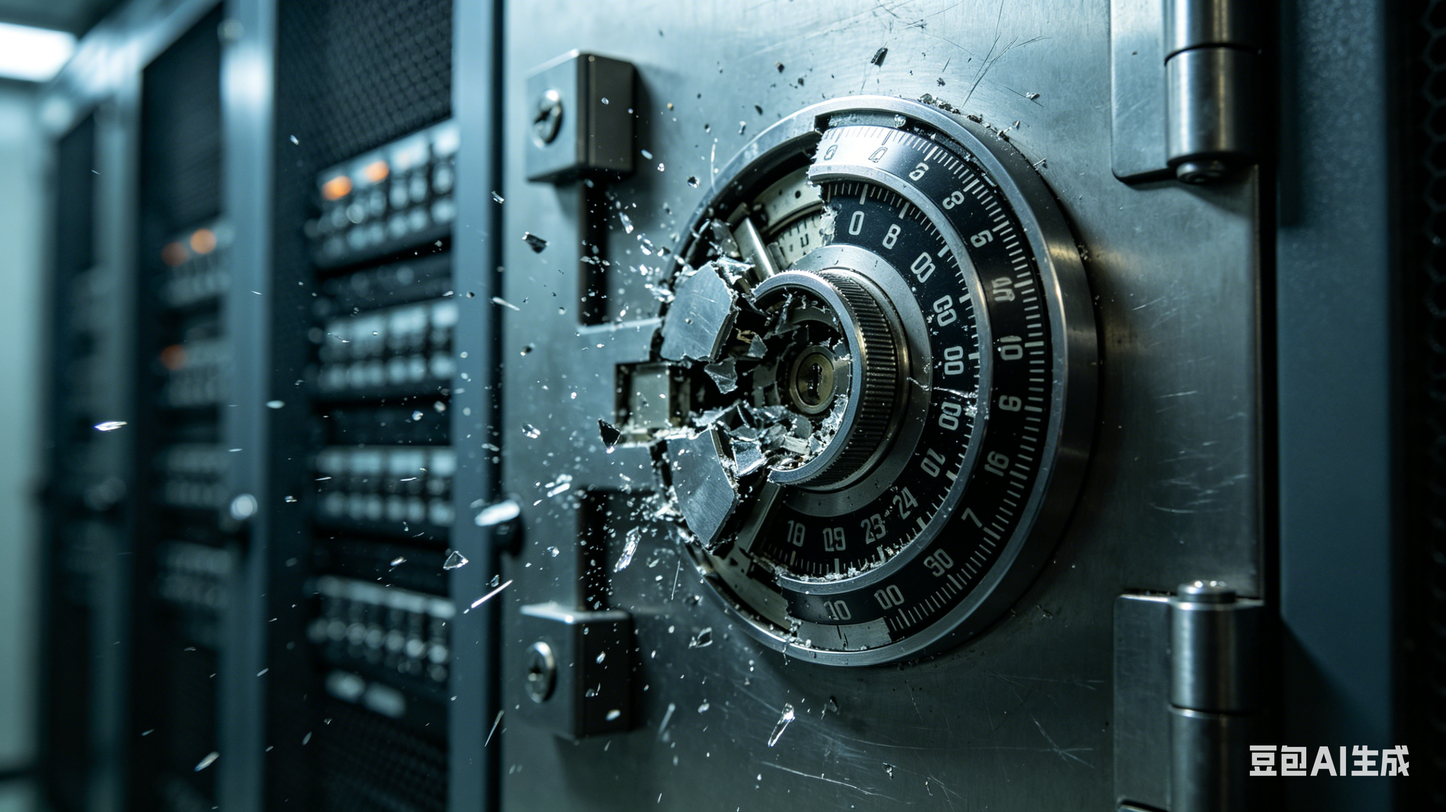BadLock: (659, 163, 902, 525)
